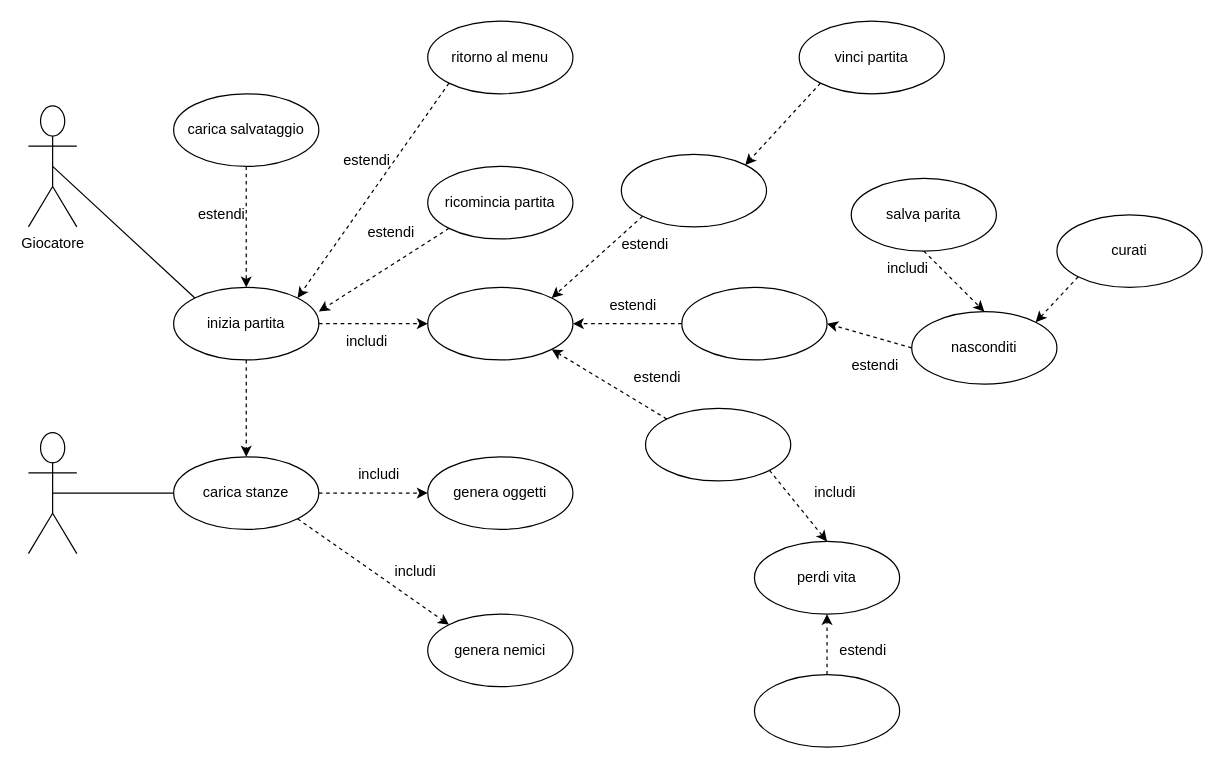
The diagram is 1223 pixels wide and 768 high, and some of its shapes have lost their labels. The shapes that lost their labels are listed below. From the top down, each one's centre as x and y in pixels, then its label:
pixel 693 190: attacca
pixel 500 323: muovi personaggio
pixel 754 323: interagisci
pixel 717 444: colpito da nemico
pixel 52 492: Sistema
pixel 826 710: perdi partita
